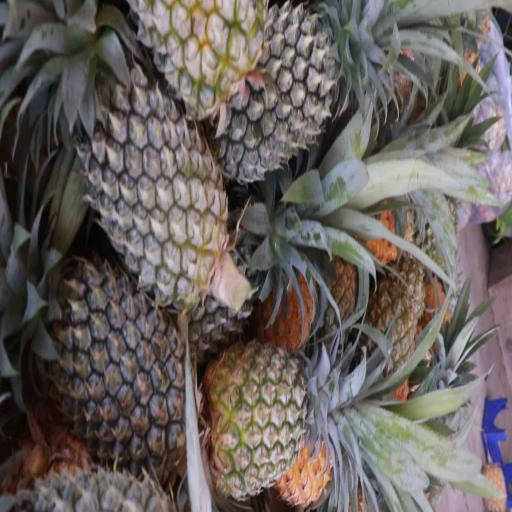------------------------------: (198, 336, 328, 498), (128, 0, 266, 117)
